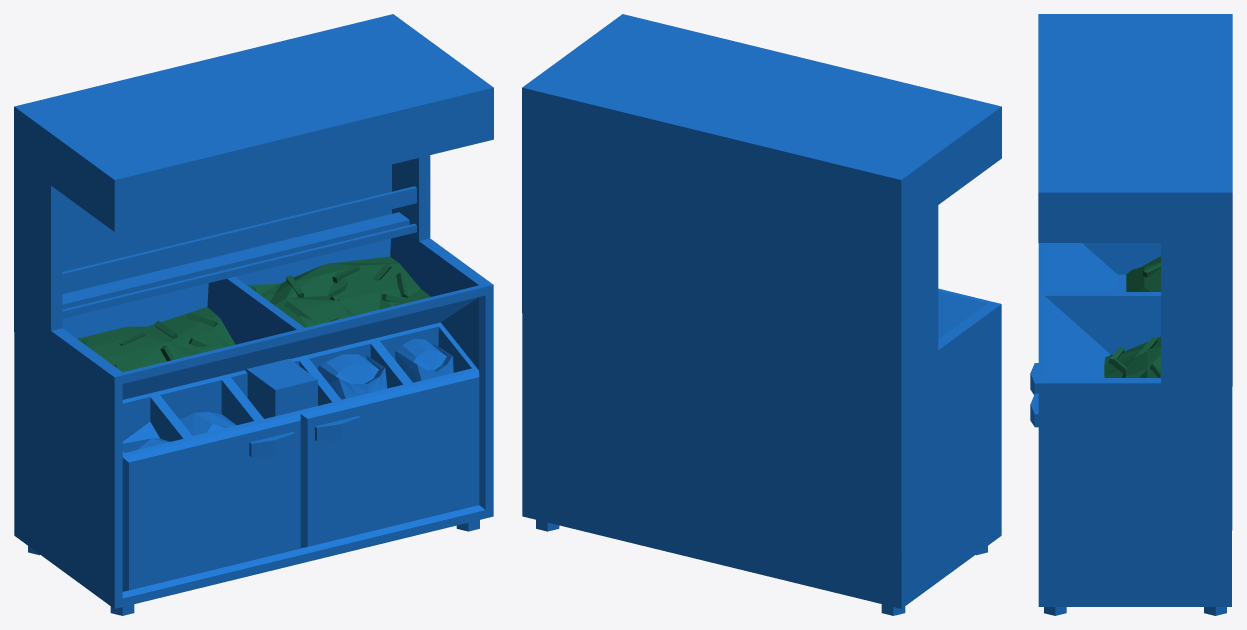
File: T_potato_cupboard.fbx
3 renders of one model, left to right at view 1: azimuth 30°, elevation 25°; view 2: azimuth 150°, elevation 25°; view 3: azimuth 270°, elevation 25°, orthographic. The views are drawn at different scales.
Parts seen in each view (by area): view 1: potato_cupboard, Cube, Cube_5; view 2: potato_cupboard; view 3: potato_cupboard, Cube, Cube_5.
Part boxes in pixels (box(x1,y1,x2,y2)): potato_cupboard: box(14, 14, 493, 615); Cube: box(247, 256, 430, 327); Cube_5: box(77, 307, 235, 372); potato_cupboard: box(522, 14, 1001, 615); potato_cupboard: box(1030, 14, 1232, 615); Cube: box(1104, 336, 1160, 377); Cube_5: box(1126, 256, 1160, 291).
Size of the model in its own units: 150 by 167 by 71.66.
